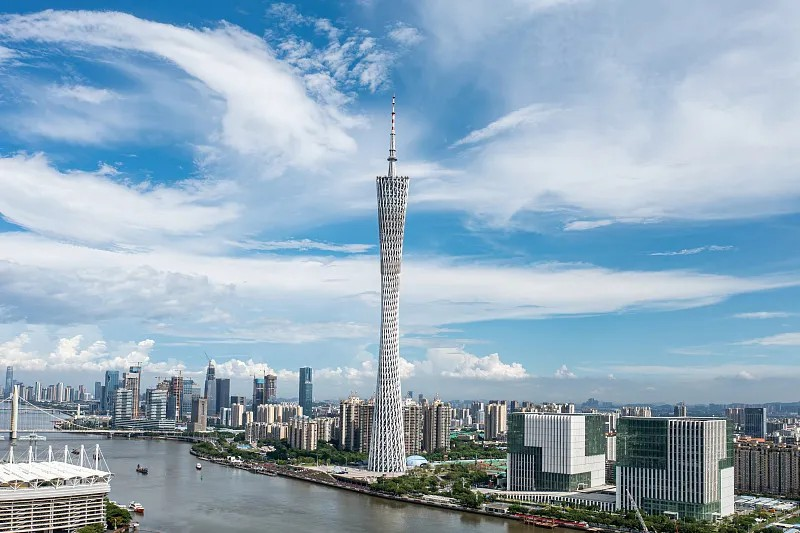Canton: (364, 95, 410, 475)
